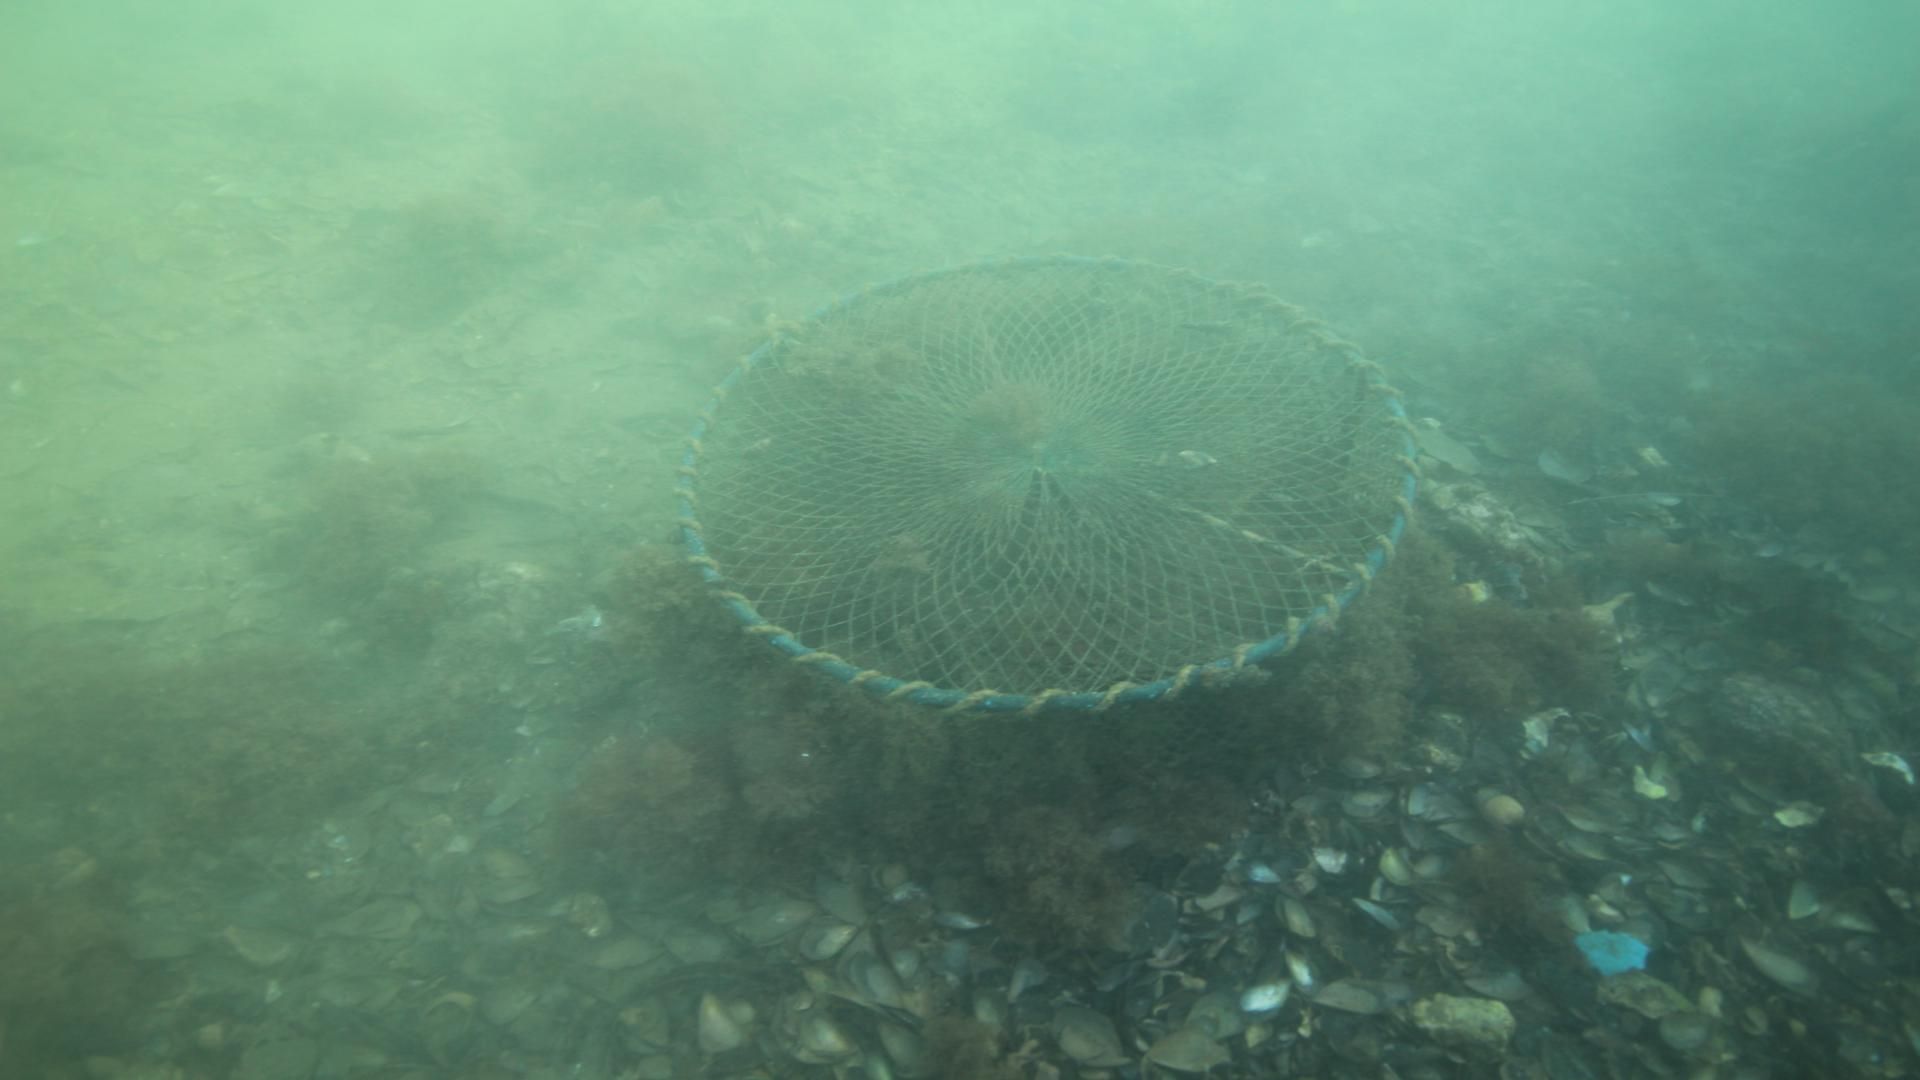circular fish trap: (671, 249, 1420, 781)
